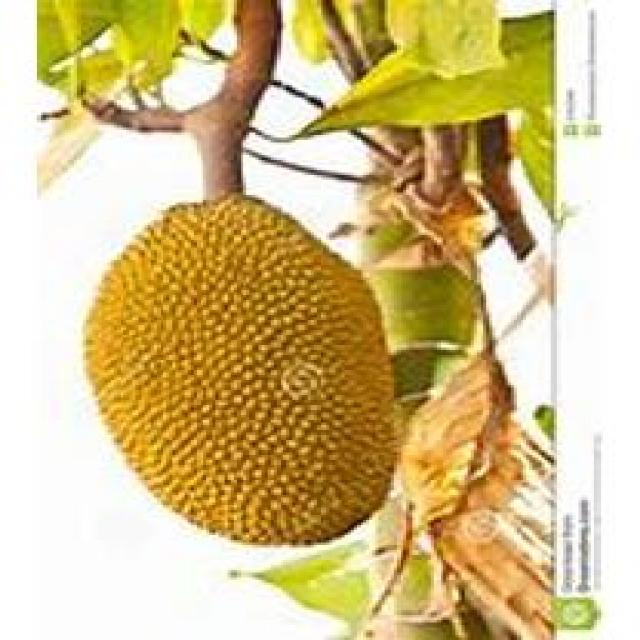fruit: (80, 160, 495, 468)
